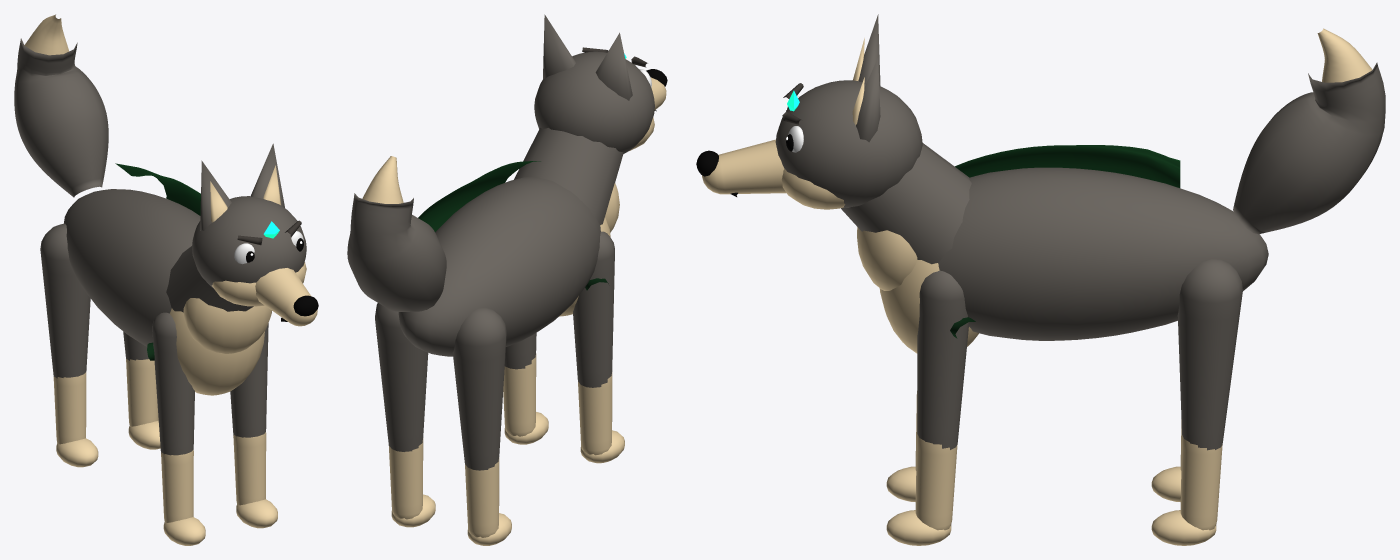
The model's file is wolf.glb.
3 views of the same model, side by side, from view 1: azimuth 30°, elevation 25°; view 2: azimuth 150°, elevation 25°; view 3: azimuth 270°, elevation 25° (orthographic). The views are drawn at different scales.
Visible parts, largest first — view 1: body, tail, head, leg_-1_-1, leg_-1_1, body_chest, body_ruff, leg_1_1, leg_-1_1_sock, leg_1_1_sock, body_neck, leg_-1_-1_sock (+15 smaller); view 2: body, tail, head, leg_-1_-1, leg_1_-1, body_neck, leg_-1_1, leg_-1_1_sock, leg_-1_-1_sock, leg_1_-1_sock, leg_1_1_sock, cape (+9 smaller); view 3: body, tail, head, leg_1_-1, body_neck, leg_1_1, cape, head_muzzle, leg_1_1_sock, leg_1_-1_sock, body_ruff, body_chest (+7 smaller).
Part boxes in pixels (x1,y1,x2,y2): body: [64, 189, 200, 346]; tail: [14, 38, 108, 197]; head: [192, 196, 306, 287]; leg_-1_-1: [40, 223, 90, 378]; leg_-1_1: [152, 312, 194, 455]; body_chest: [170, 308, 264, 395]; body_ruff: [183, 298, 271, 353]; leg_1_1: [230, 323, 268, 437]; leg_-1_1_sock: [161, 450, 193, 523]; leg_1_1_sock: [233, 432, 266, 505]; body_neck: [166, 246, 253, 312]; leg_-1_-1_sock: [53, 372, 86, 444]; body: [398, 176, 600, 356]; tail: [347, 193, 446, 311]; head: [534, 51, 654, 153]; leg_-1_-1: [452, 307, 506, 470]; leg_1_-1: [375, 303, 428, 451]; body_neck: [514, 127, 623, 225]; leg_-1_1: [573, 231, 614, 387]; leg_-1_1_sock: [578, 372, 612, 455]; leg_-1_-1_sock: [465, 457, 499, 537]; leg_1_-1_sock: [388, 438, 423, 519]; leg_1_1_sock: [503, 353, 536, 436]; cape: [418, 161, 540, 231]; body: [938, 167, 1268, 340]; tail: [1233, 62, 1385, 234]; head: [775, 80, 922, 207]; leg_1_-1: [1177, 259, 1242, 450]; body_neck: [841, 143, 971, 264]; leg_1_1: [917, 270, 968, 449]; cape: [955, 145, 1180, 187]; head_muzzle: [702, 139, 786, 194]; leg_1_1_sock: [915, 434, 957, 530]; leg_1_-1_sock: [1180, 435, 1222, 530]; body_ruff: [857, 227, 917, 290]; body_chest: [879, 260, 978, 353].
Bounding box in the file's own units: 0.4955 × 1.48 × 1.87.
